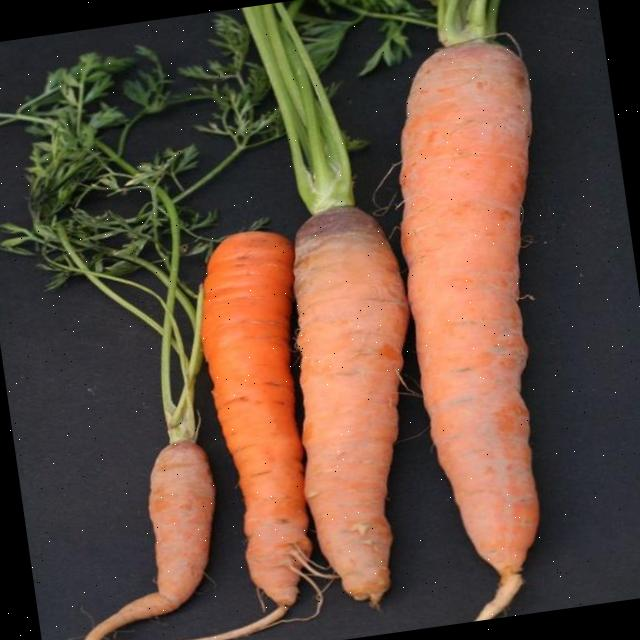carrot: (400, 42, 539, 616), (294, 206, 409, 603), (206, 227, 315, 608), (85, 442, 216, 640)
